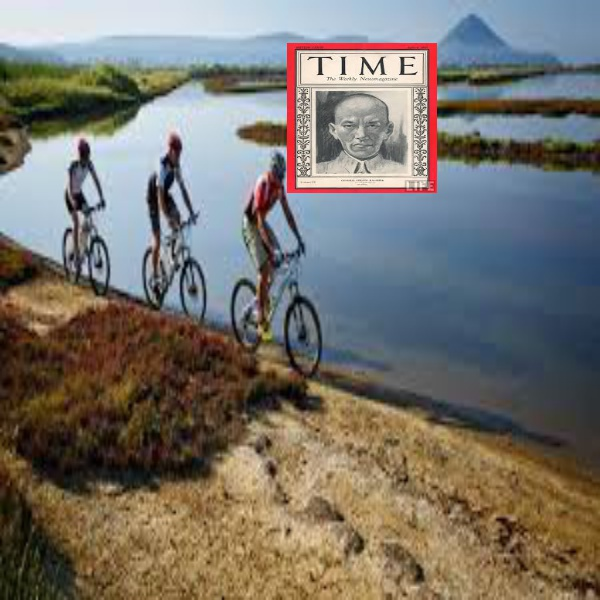time_cover: (283, 34, 435, 193)
